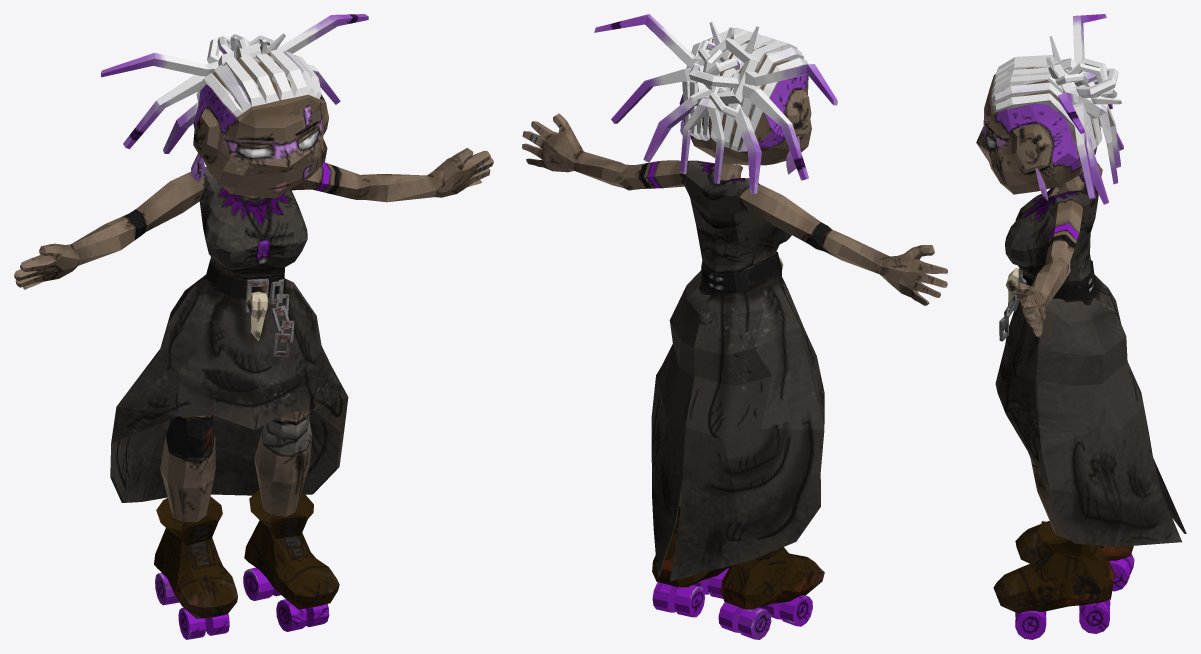
File: bruja_000103.obj
The picture shows the model from 3 angles, left to right: view 1: azimuth 30°, elevation 25°; view 2: azimuth 150°, elevation 25°; view 3: azimuth 270°, elevation 25°; orthographic projection. The views are drawn at different scales.
Visible parts, largest first — view 1: Bruja_Plane.001; view 2: Bruja_Plane.001; view 3: Bruja_Plane.001.
Part boxes in pixels (x1,y1,x2,y2): Bruja_Plane.001: (14, 14, 493, 639); Bruja_Plane.001: (522, 14, 947, 639); Bruja_Plane.001: (976, 14, 1186, 639).
Bounding box in the file's own units: 13.19 × 16.58 × 5.56.
